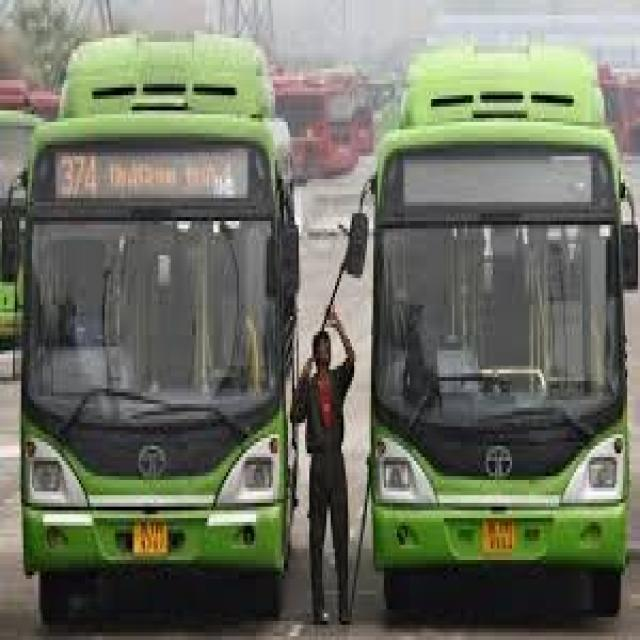bus: (353, 20, 640, 640), (13, 32, 307, 621)
